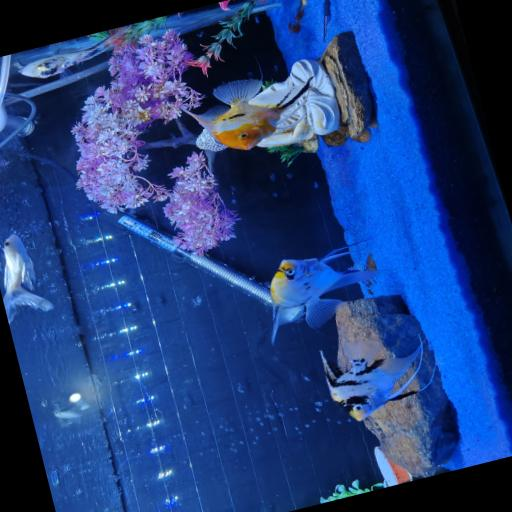Fish: (271, 245, 391, 341), (320, 340, 423, 420), (187, 78, 301, 149), (19, 25, 129, 77), (3, 233, 53, 322), (301, 0, 307, 6)
